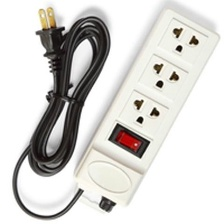three_eye_plug: (61, 4, 223, 219)
